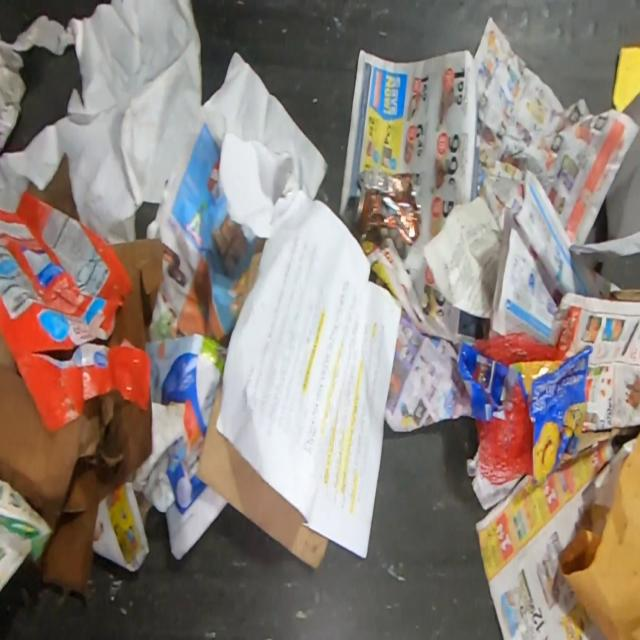cardboard: (0, 335, 151, 602), (196, 378, 329, 570), (88, 237, 164, 349), (26, 151, 79, 220)
metal: (351, 167, 422, 246)
soft_plastic: (0, 188, 151, 433), (458, 304, 594, 486)
